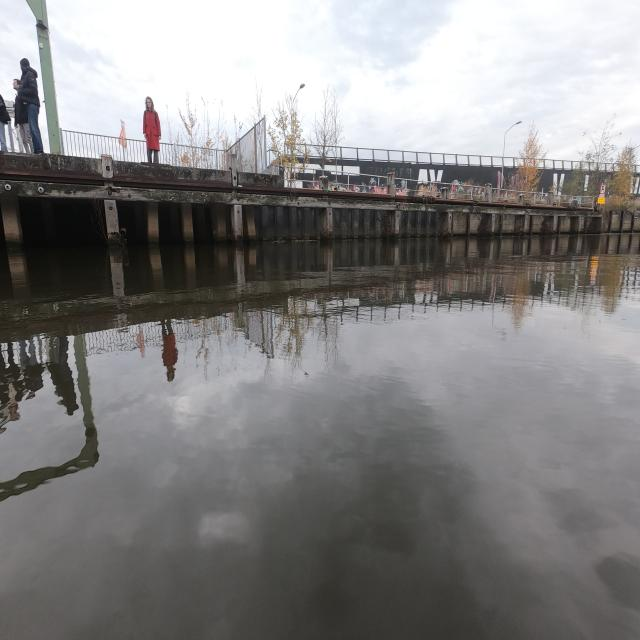sky: (44, 0, 639, 149), (1, 2, 39, 101)
wall: (0, 153, 640, 248)
water: (1, 235, 638, 639)
